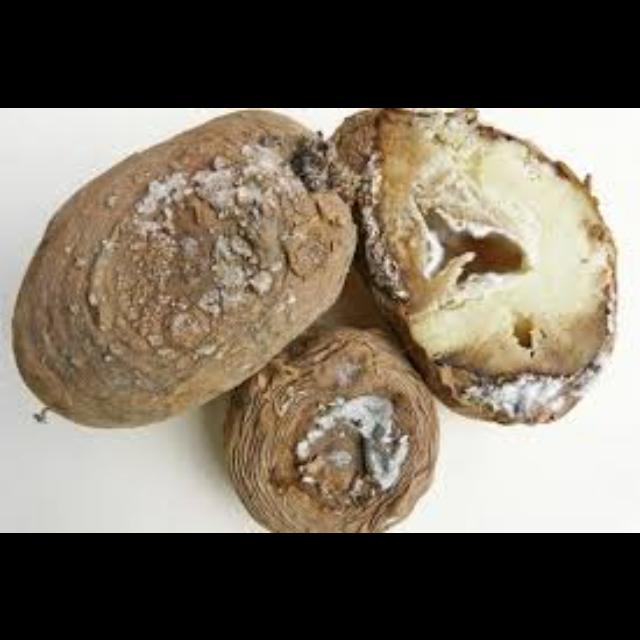Damaged potato: (28, 110, 360, 422), (318, 109, 626, 432), (208, 324, 446, 528)
